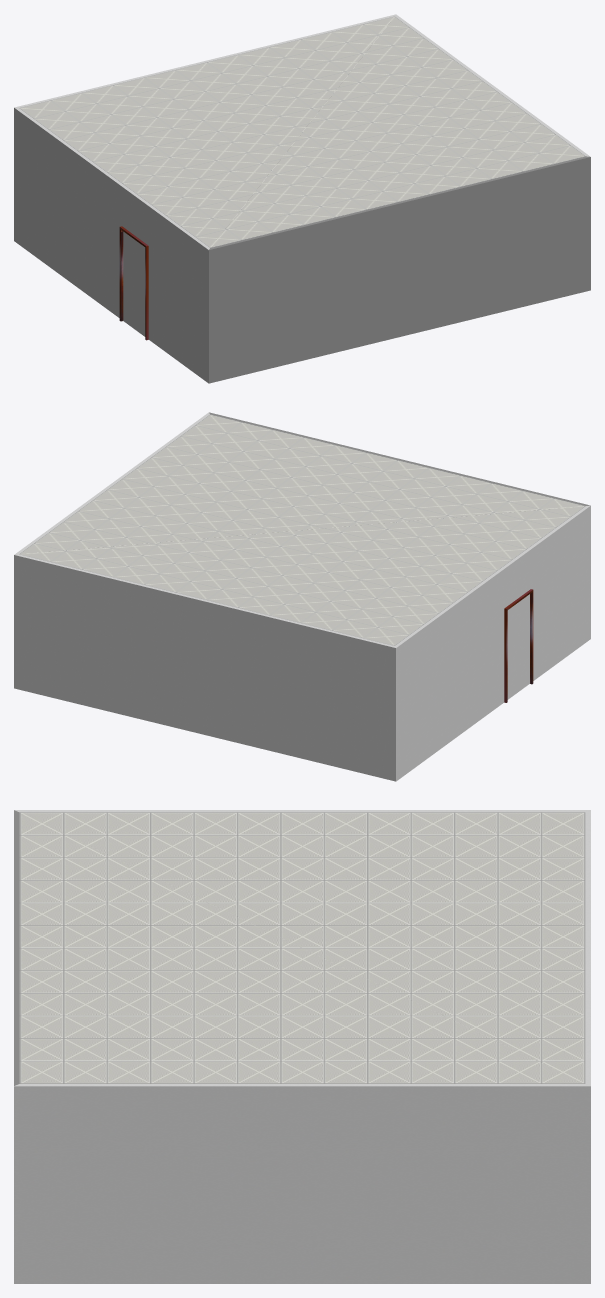
Rendered from gengyishi.FBX.
The picture shows the model from 3 angles, top to bottom: view 1: azimuth 30°, elevation 25°; view 2: azimuth 150°, elevation 25°; view 3: azimuth 270°, elevation 25°; orthographic projection. The views are drawn at different scales.
Visible parts, largest first — view 1: ml-gengyishi-13, ml-gyshi-tianhua01, ml-gyshi-men01; view 2: ml-gengyishi-13, ml-gyshi-tianhua01, ml-gyshi-men01; view 3: ml-gyshi-tianhua01, ml-gengyishi-13.
Part boxes in pixels (x1,y1,x2,y2): ml-gengyishi-13: [14, 14, 590, 383]; ml-gyshi-tianhua01: [19, 16, 585, 247]; ml-gyshi-men01: [119, 226, 148, 340]; ml-gengyishi-13: [14, 412, 590, 781]; ml-gyshi-tianhua01: [19, 414, 585, 645]; ml-gyshi-men01: [504, 589, 533, 702]; ml-gyshi-tianhua01: [19, 812, 585, 1083]; ml-gengyishi-13: [14, 810, 590, 1283].
Bounding box in the file's own units: 855 × 284 × 750.
Materials: 17 (16 with a texture image).
